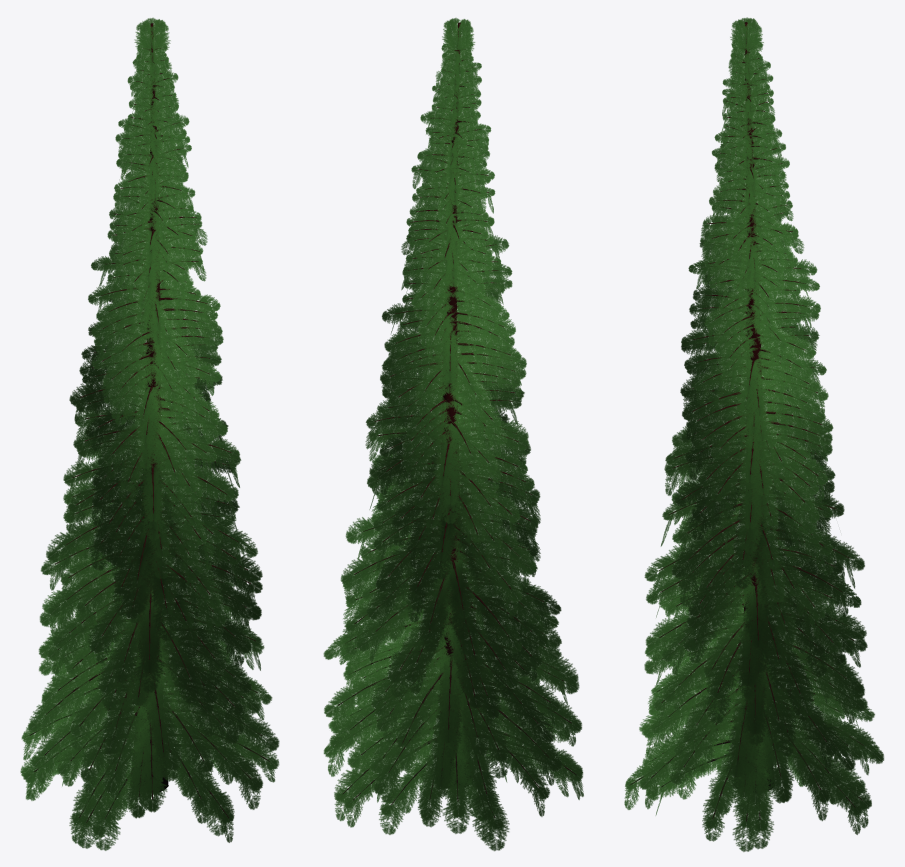
Rendered from spruce_conifer_v02.glb.
3 renders of one model, left to right at view 1: azimuth 30°, elevation 25°; view 2: azimuth 150°, elevation 25°; view 3: azimuth 270°, elevation 25°, orthographic.
Parts seen in each view (by area): view 1: spruce_conifer_v02; view 2: spruce_conifer_v02; view 3: spruce_conifer_v02.
Part boxes in pixels (x1,y1,x2,y2): spruce_conifer_v02: (20, 17, 279, 850); spruce_conifer_v02: (323, 18, 583, 851); spruce_conifer_v02: (624, 17, 884, 851).
Size of the model in its own units: 9.15 by 29.15 by 9.06.
2 materials, 2 textured.
